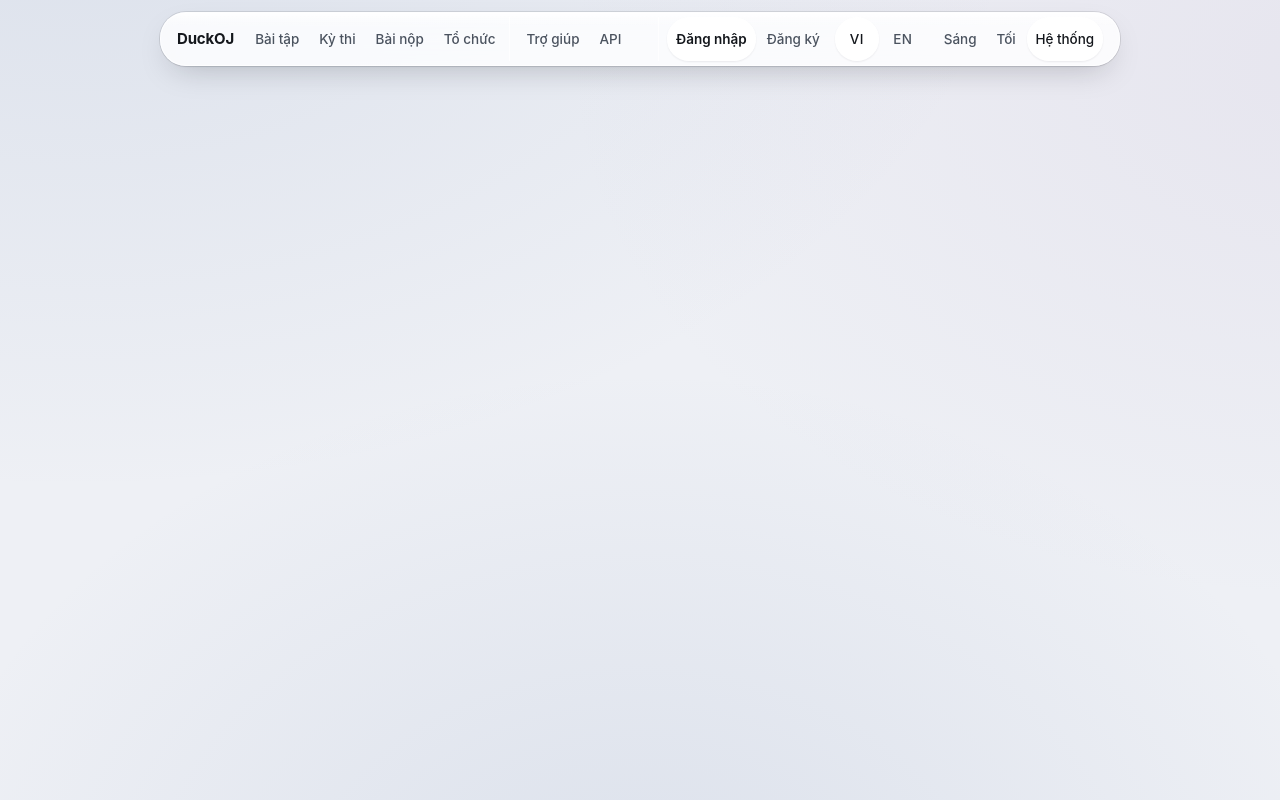
the real shell nav › renders them in English after the toggle, and marks the active language
This screenshot has width=1280, height=800.
What coordinates should you click on to do the following:
click the button with aria-label "Tiếng Anh"
I would click on:
 (903, 39)
Its box is [881,17,925,61].
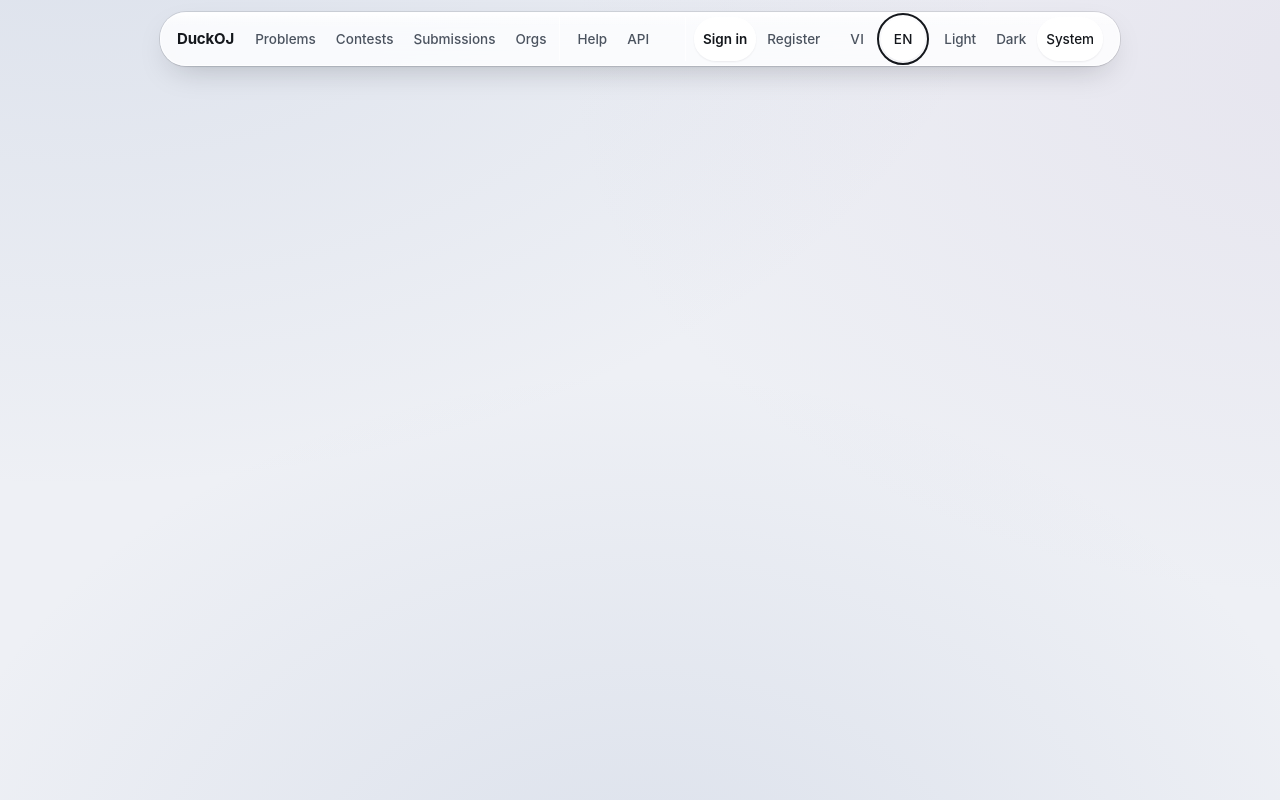
Expected: the link "Problems" is shown, [255,30,316,46]
Now the link "Sign in" is shown, box [694,17,756,61]
Now the link "Bài tập" is gone
